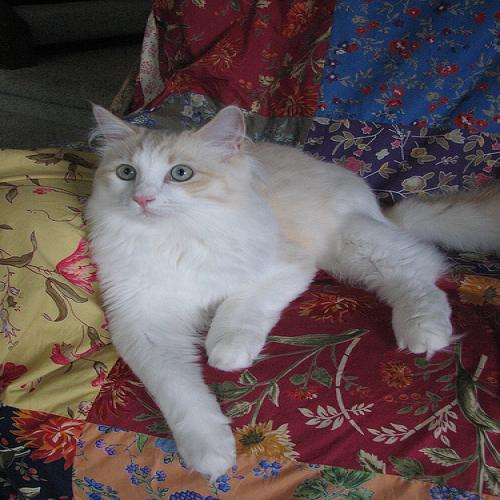ragdoll: (80, 100, 264, 237)
